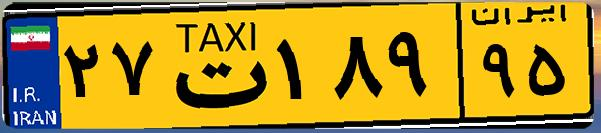1: (270, 28, 330, 110)
2: (57, 26, 110, 100)
5: (525, 38, 570, 115)
7: (110, 28, 158, 98)
8: (330, 28, 385, 110)
9: (385, 28, 445, 110), (475, 38, 525, 113)
ت: (158, 12, 270, 120)
